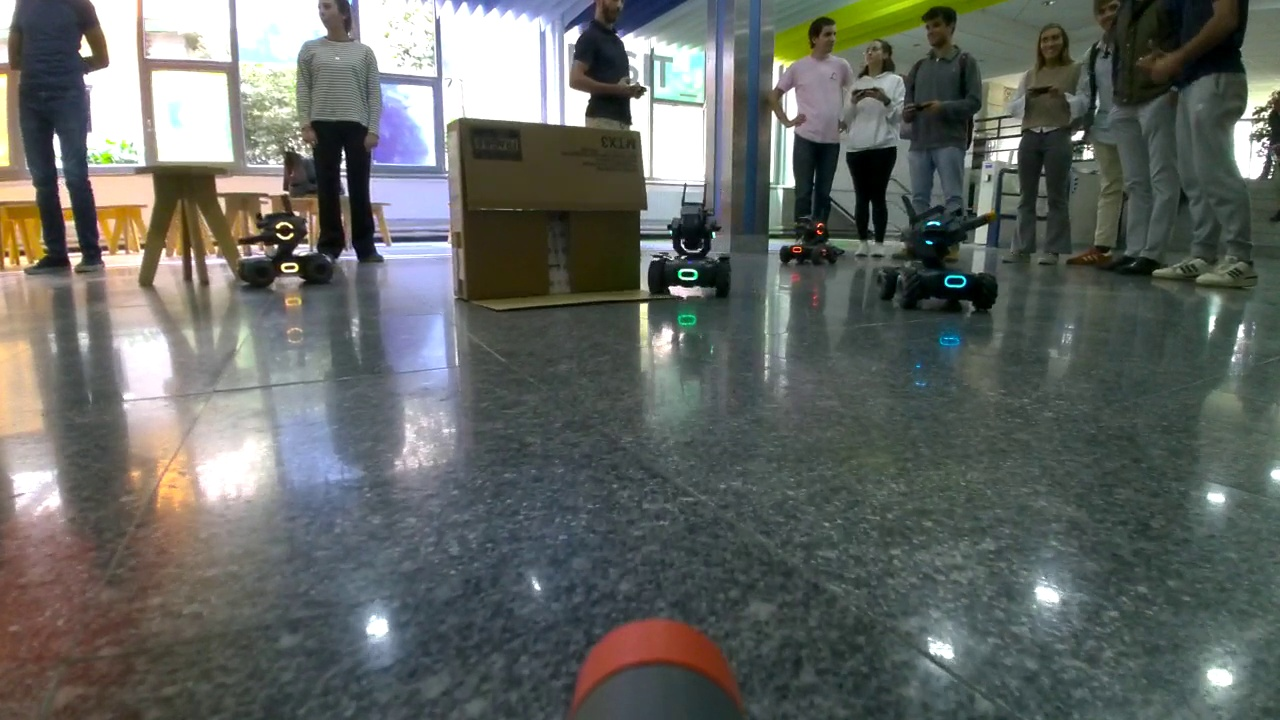robot: (873, 193, 1002, 315), (227, 205, 344, 284), (648, 203, 734, 303), (775, 217, 844, 266)
